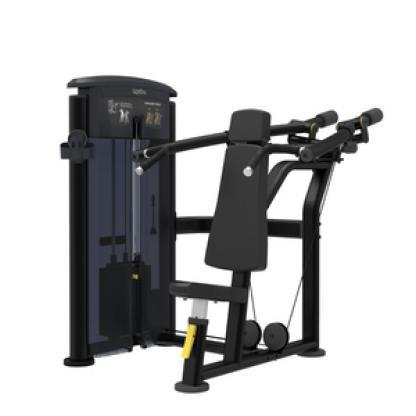shoulder press machine: (61, 70, 384, 394)
